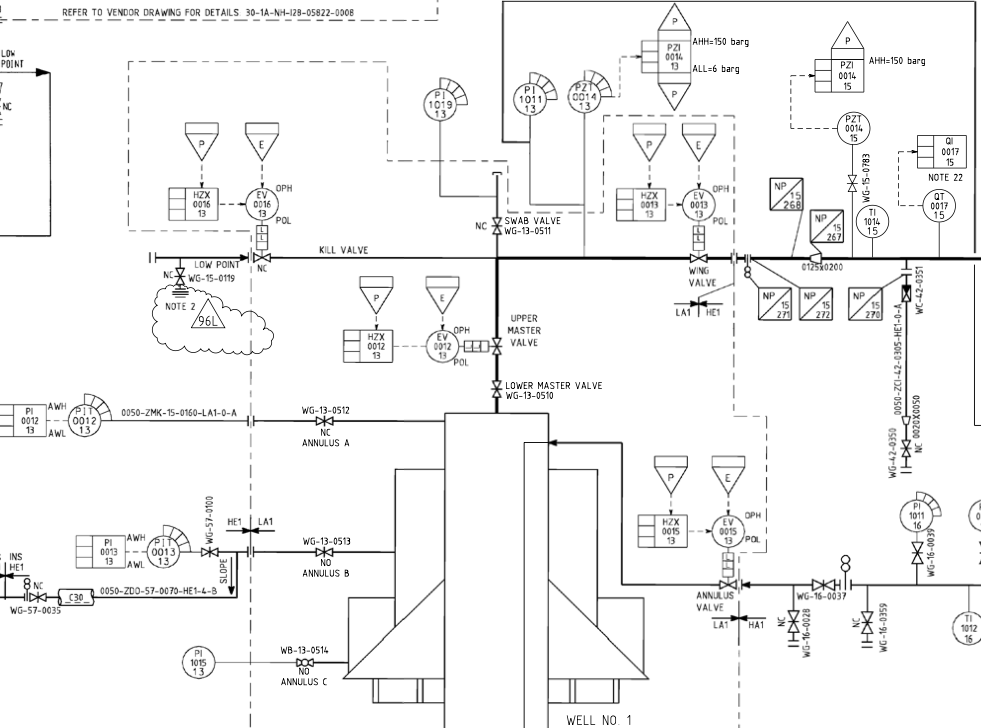Instrument: (420, 85, 459, 124), (854, 201, 892, 240), (180, 641, 217, 681), (65, 401, 105, 438), (920, 187, 960, 224), (709, 512, 747, 550), (421, 328, 461, 364), (512, 80, 548, 120), (144, 533, 182, 570), (835, 108, 872, 146), (566, 78, 602, 115), (243, 186, 280, 222), (897, 497, 935, 532), (680, 188, 718, 222), (953, 608, 981, 648)
Instrument-square: (929, 131, 969, 172), (827, 55, 867, 95), (629, 185, 668, 225), (358, 327, 396, 366), (182, 185, 220, 224), (11, 401, 49, 438), (90, 534, 128, 571)
